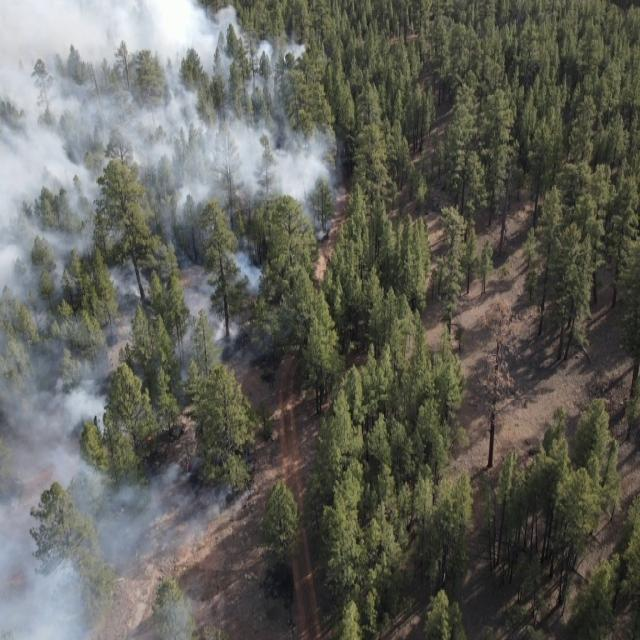fire: (141, 426, 159, 452)
smoke: (0, 0, 201, 640), (202, 0, 337, 388), (202, 474, 255, 548)
